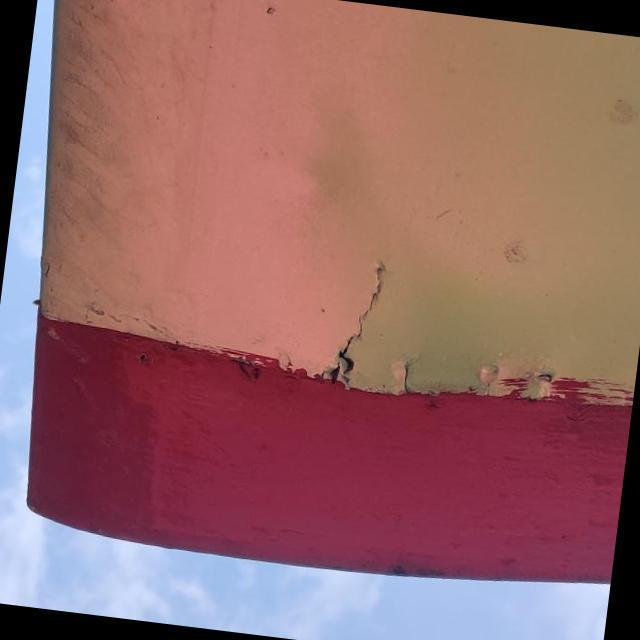Rupture: (305, 238, 402, 397), (380, 343, 430, 406)
